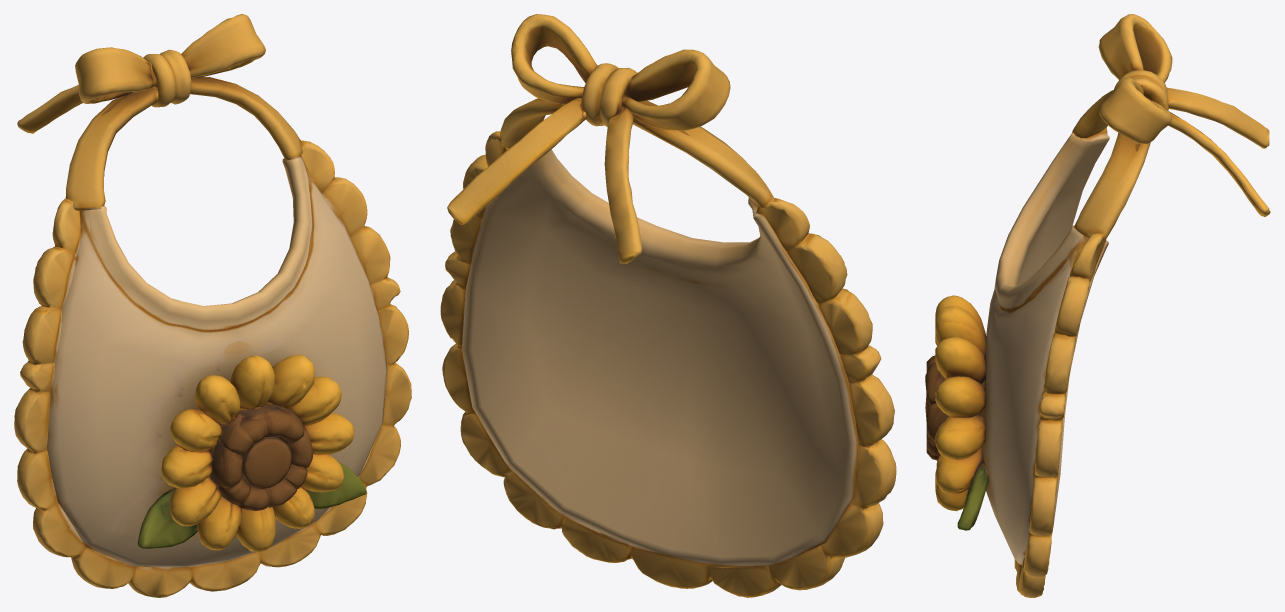
Rendered from mem_ac_sunflowerbib.fbx.
The picture shows the model from 3 angles, left to right: view 1: azimuth 30°, elevation 25°; view 2: azimuth 150°, elevation 25°; view 3: azimuth 270°, elevation 25°; orthographic projection. The views are drawn at different scales.
Visible parts, largest first — view 1: tripo_node_814a138b-06d0-488f-b19d-20076c4244c9; view 2: tripo_node_814a138b-06d0-488f-b19d-20076c4244c9; view 3: tripo_node_814a138b-06d0-488f-b19d-20076c4244c9.
Boxes of the visible parts, x1=… form: tripo_node_814a138b-06d0-488f-b19d-20076c4244c9: x1=14, y1=14, x2=411, y2=597; tripo_node_814a138b-06d0-488f-b19d-20076c4244c9: x1=440, y1=14, x2=896, y2=597; tripo_node_814a138b-06d0-488f-b19d-20076c4244c9: x1=925, y1=14, x2=1270, y2=597.
Size of the model in its own units: 0.7871 by 0.998 by 0.6035.
1 material, 1 textured.
